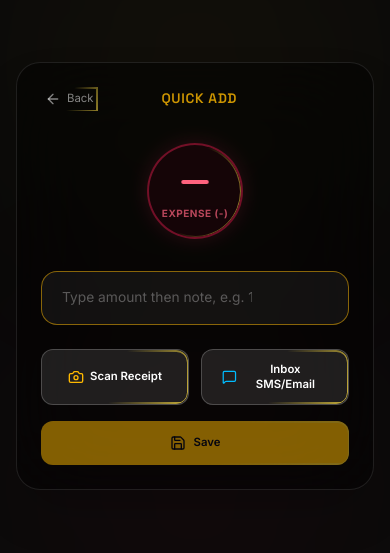
Scenario: QuickAddPage › toggles between expense (-) and income (+)
// Toggle to income
Click the button "Expense (-)".
click(195, 191)  # box [147,143,243,239]
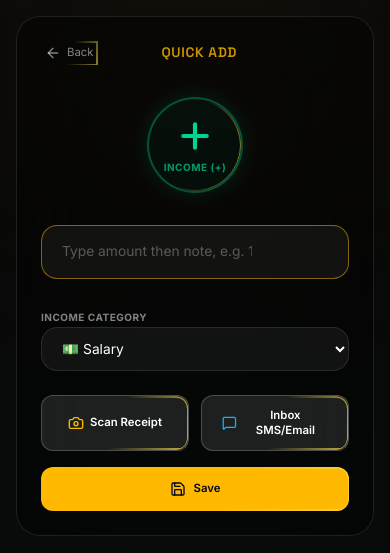
expect the button "Income (+)" is shown: met
// Toggle back to expense
Click the button "Income (+)".
click(195, 145)  # box [147,97,243,193]
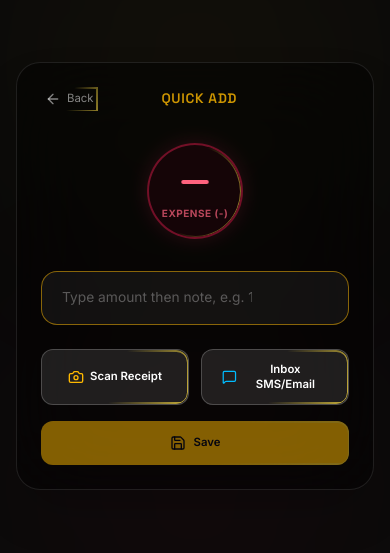
expect the button "Expense (-)" is shown: met, box [147,143,243,239]
